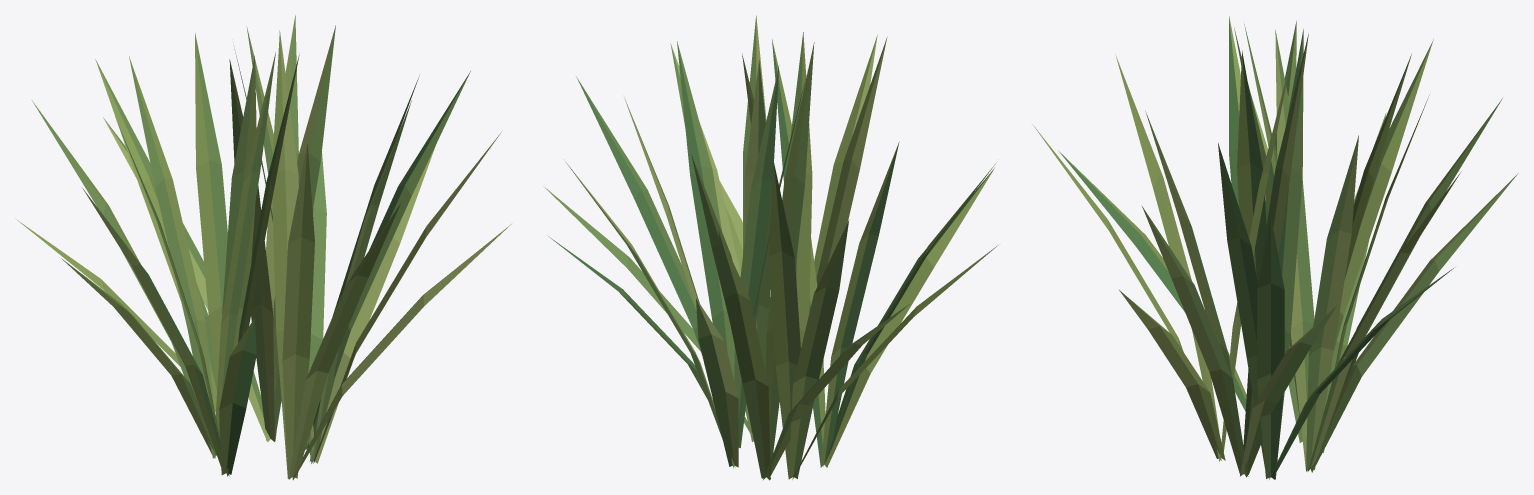
The model's file is rice.glb.
3 views of the same model, side by side, from view 1: azimuth 30°, elevation 25°; view 2: azimuth 150°, elevation 25°; view 3: azimuth 270°, elevation 25° (orthographic). The views are drawn at different scales.
Parts seen in each view (by area): view 1: Seven rice seedlings with folded wet leaf blades; view 2: Seven rice seedlings with folded wet leaf blades; view 3: Seven rice seedlings with folded wet leaf blades.
Part boxes in pixels (bbox=[...]): Seven rice seedlings with folded wet leaf blades: bbox=[15, 15, 511, 480]; Seven rice seedlings with folded wet leaf blades: bbox=[543, 15, 998, 480]; Seven rice seedlings with folded wet leaf blades: bbox=[1032, 16, 1518, 479].
Bounding box in the file's own units: 0.6463 × 0.6192 × 0.6382.
